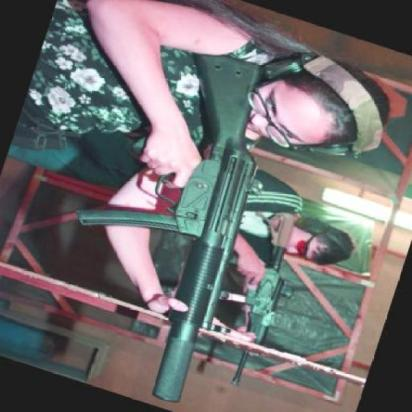Gun: (34, 30, 299, 412), (190, 199, 314, 397)
